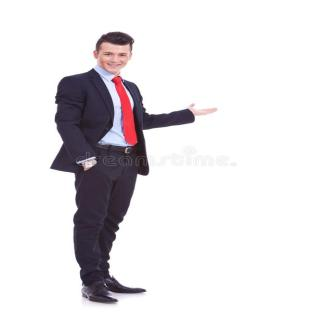Human: (50, 32, 216, 302)
